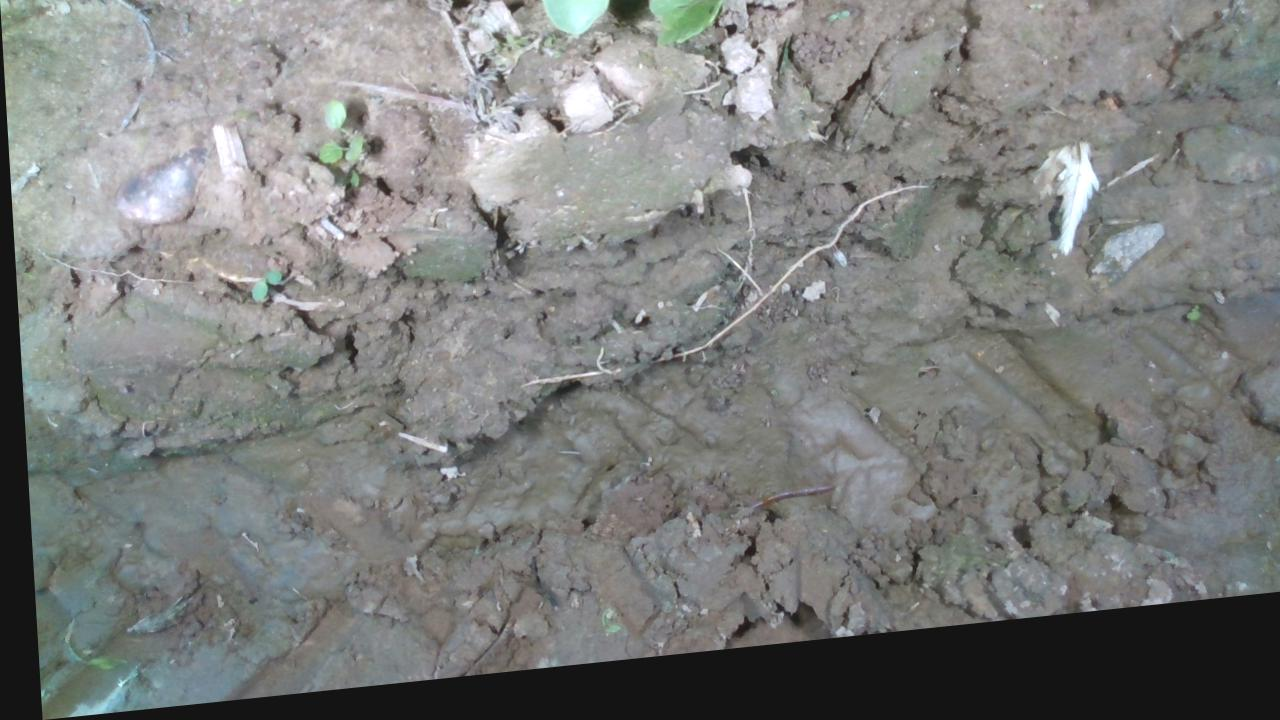weed: (243, 269, 280, 309)
